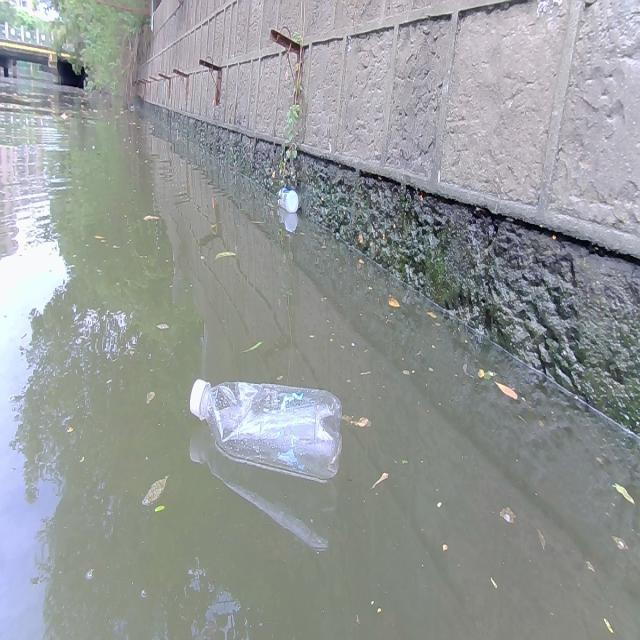bottle: (189, 376, 343, 479), (276, 187, 298, 213)
